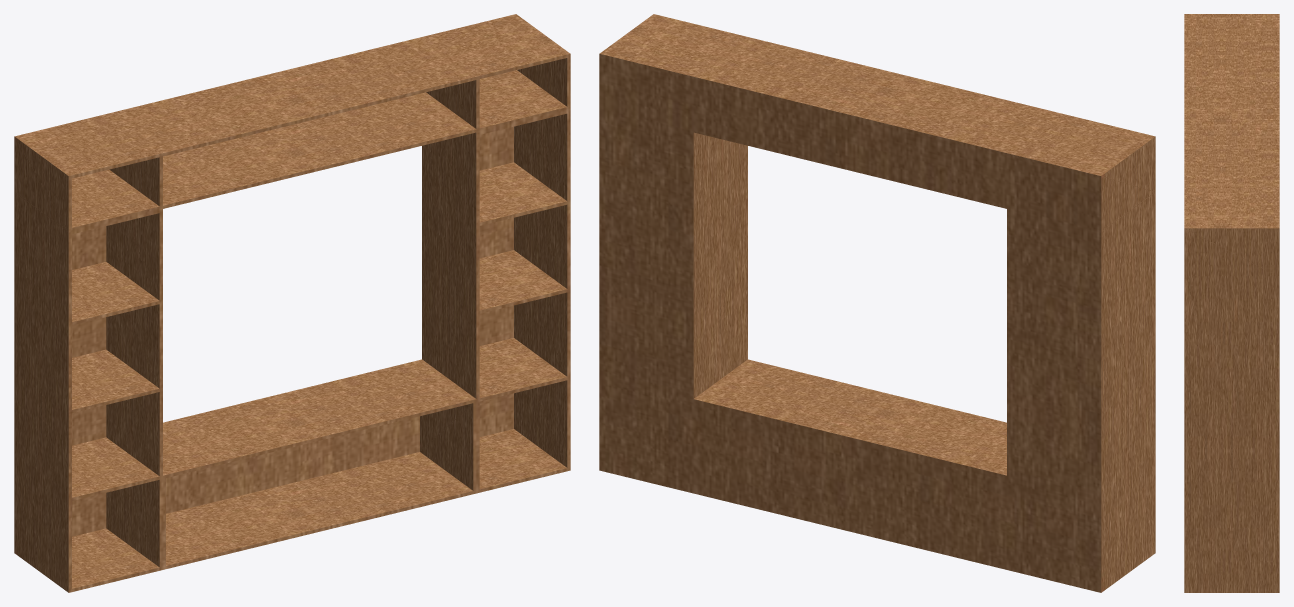
Rendered from shelf.obj.
3 views of the same model, side by side, from view 1: azimuth 30°, elevation 25°; view 2: azimuth 150°, elevation 25°; view 3: azimuth 270°, elevation 25° (orthographic). The views are drawn at different scales.
Visible parts, largest first — view 1: shelf; view 2: shelf; view 3: shelf.
Boxes of the visible parts, bbox=[...] form: shelf: bbox=[14, 14, 570, 592]; shelf: bbox=[599, 14, 1155, 592]; shelf: bbox=[1184, 14, 1279, 592].
Bounding box in the file's own units: 320 × 254 × 60.
1 material, 1 textured.
